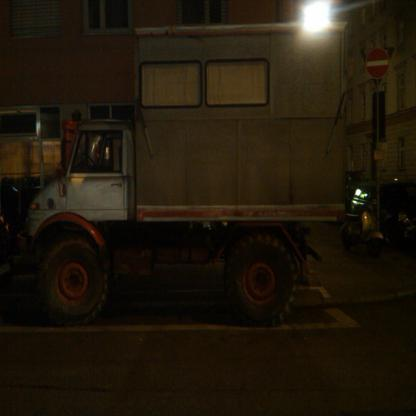truck: (20, 41, 354, 344)
